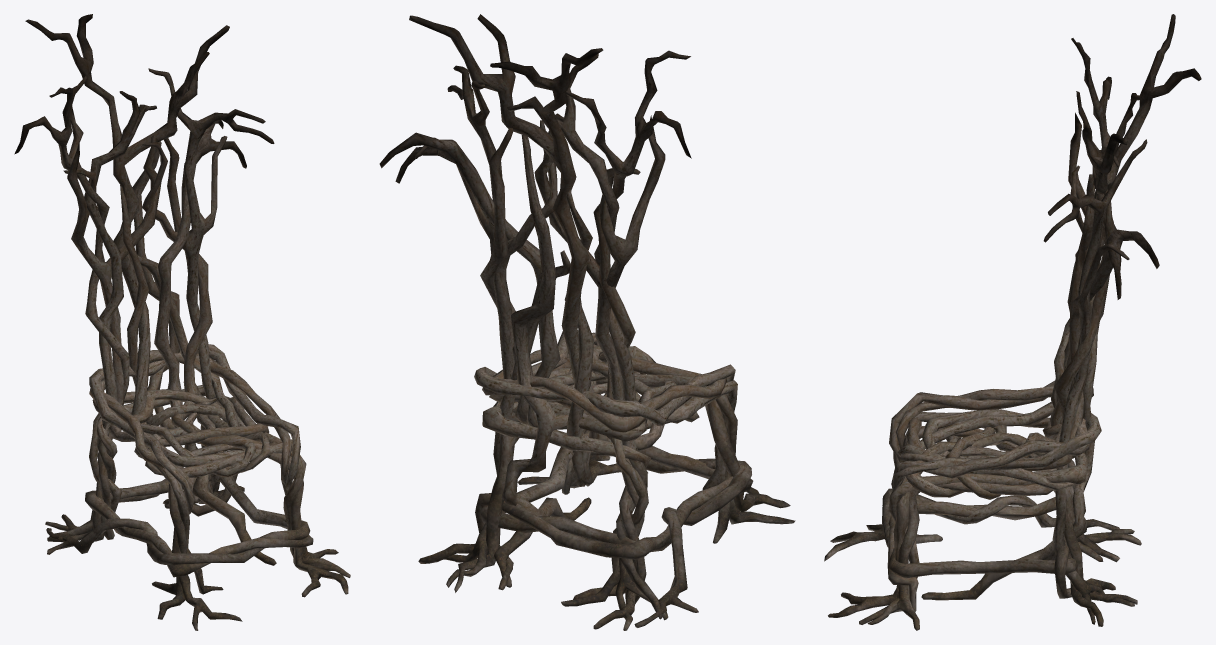
Rendered from P_Archive_Chair01.fbx.
3 views of the same model, side by side, from view 1: azimuth 30°, elevation 25°; view 2: azimuth 150°, elevation 25°; view 3: azimuth 270°, elevation 25° (orthographic). The views are drawn at different scales.
Visible parts, largest first — view 1: SK_Chair_V1.001; view 2: SK_Chair_V1.001; view 3: SK_Chair_V1.001.
Part boxes in pixels (x1,y1,x2,y2): SK_Chair_V1.001: (14, 14, 350, 630); SK_Chair_V1.001: (379, 14, 795, 630); SK_Chair_V1.001: (824, 14, 1201, 630).
Size of the model in its own units: 97.92 by 195 by 128.
Materials: 1 (1 with a texture image).
